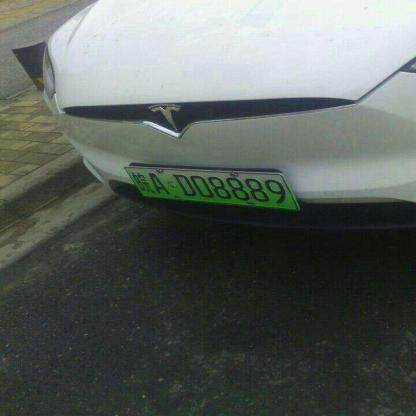lp: (126, 167, 296, 208)
